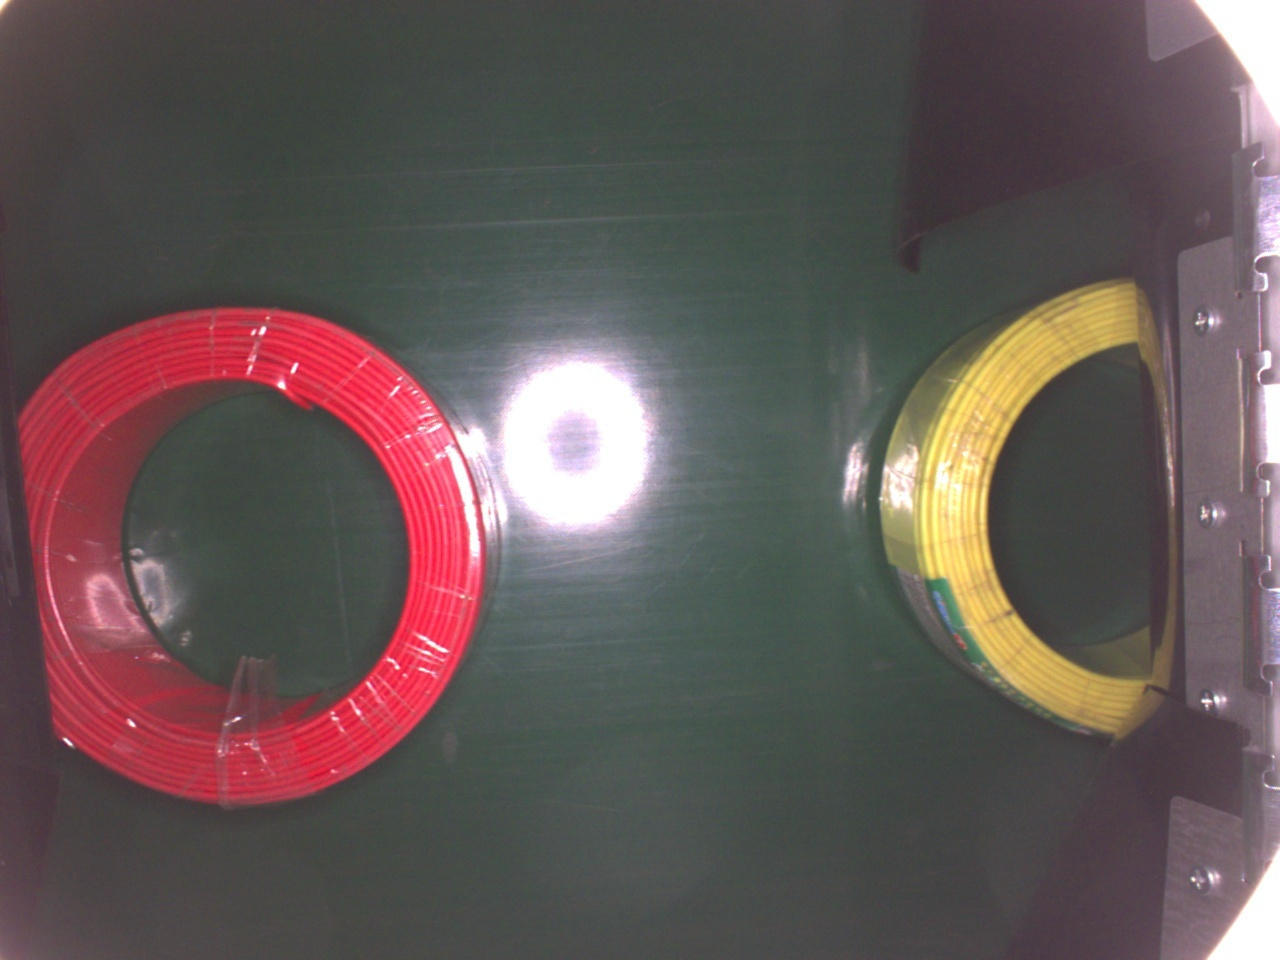red: (20, 304, 504, 811)
yellow: (866, 277, 1174, 741)
